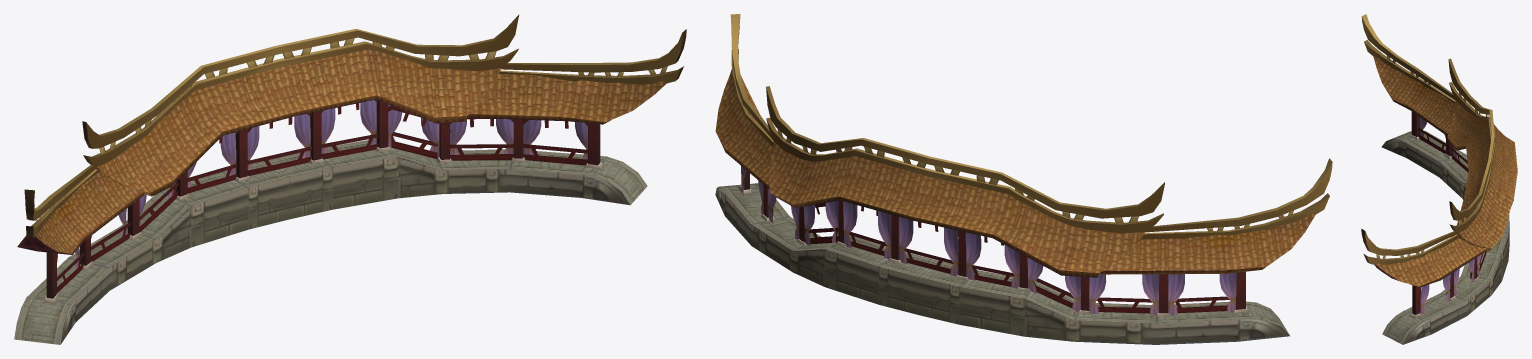
The model's file is bx_building_002.FBX.
3 renders of one model, left to right at view 1: azimuth 30°, elevation 25°; view 2: azimuth 150°, elevation 25°; view 3: azimuth 270°, elevation 25°, orthographic. The views are drawn at different scales.
Visible parts, largest first — view 1: bx_building_002; view 2: bx_building_002; view 3: bx_building_002.
Boxes of the visible parts, <box> form: bx_building_002: <box>14,14,686,344</box>; bx_building_002: <box>715,14,1332,344</box>; bx_building_002: <box>1361,14,1517,344</box>.
Size of the model in its own units: 1938 by 490 by 591.
